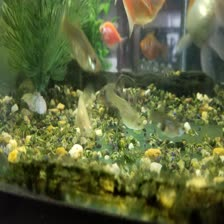Cuezo: (170, 0, 223, 57)
Guppy: (55, 10, 102, 75), (105, 81, 141, 140), (147, 97, 189, 141), (72, 80, 98, 143)
